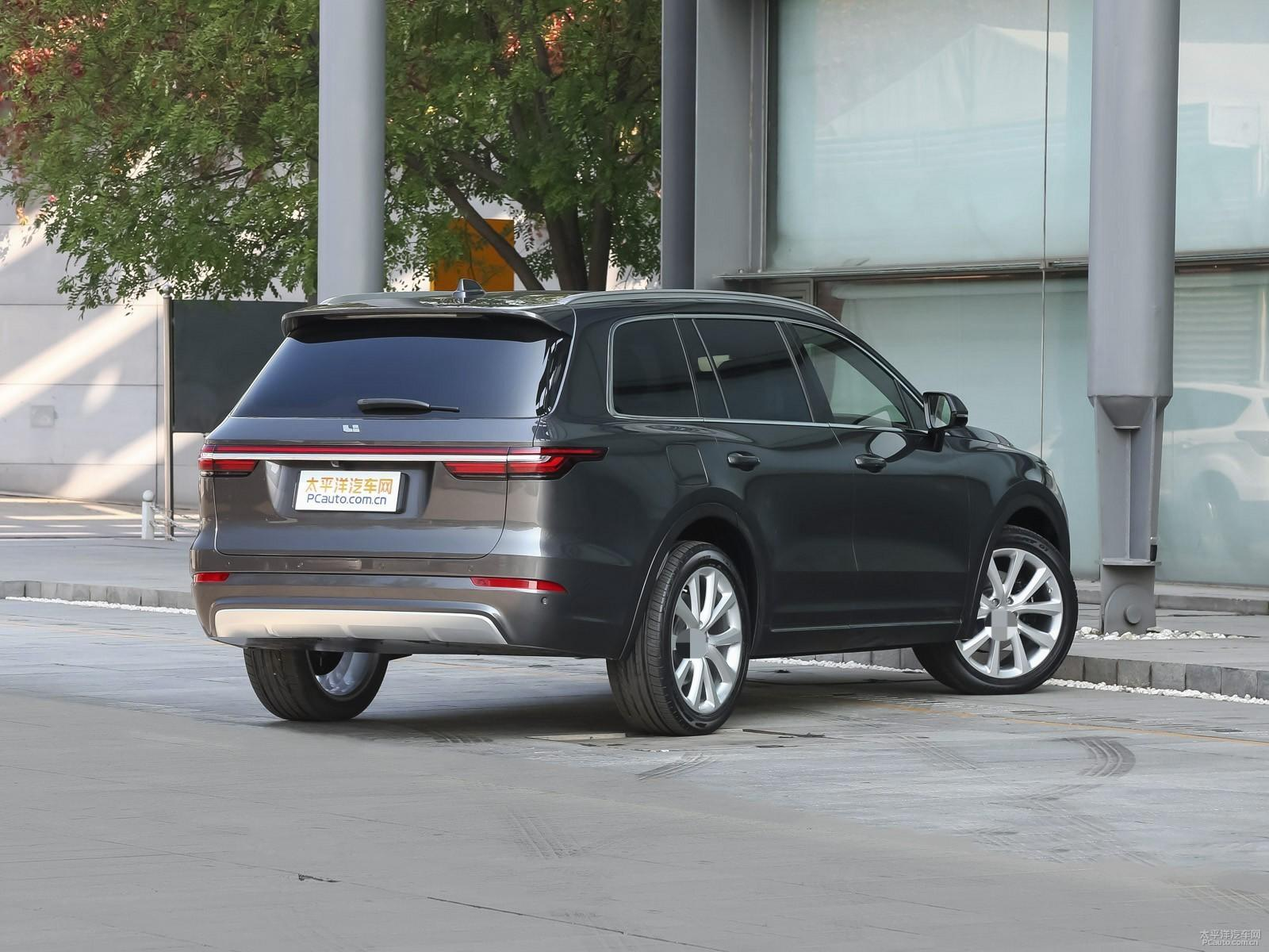Li Auto: (342, 424, 360, 434)
